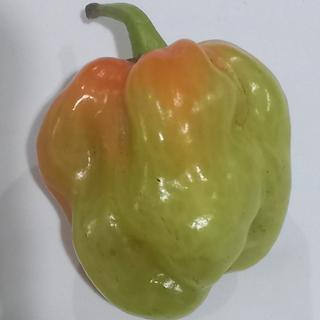Grade-B: (33, 33, 294, 318)
